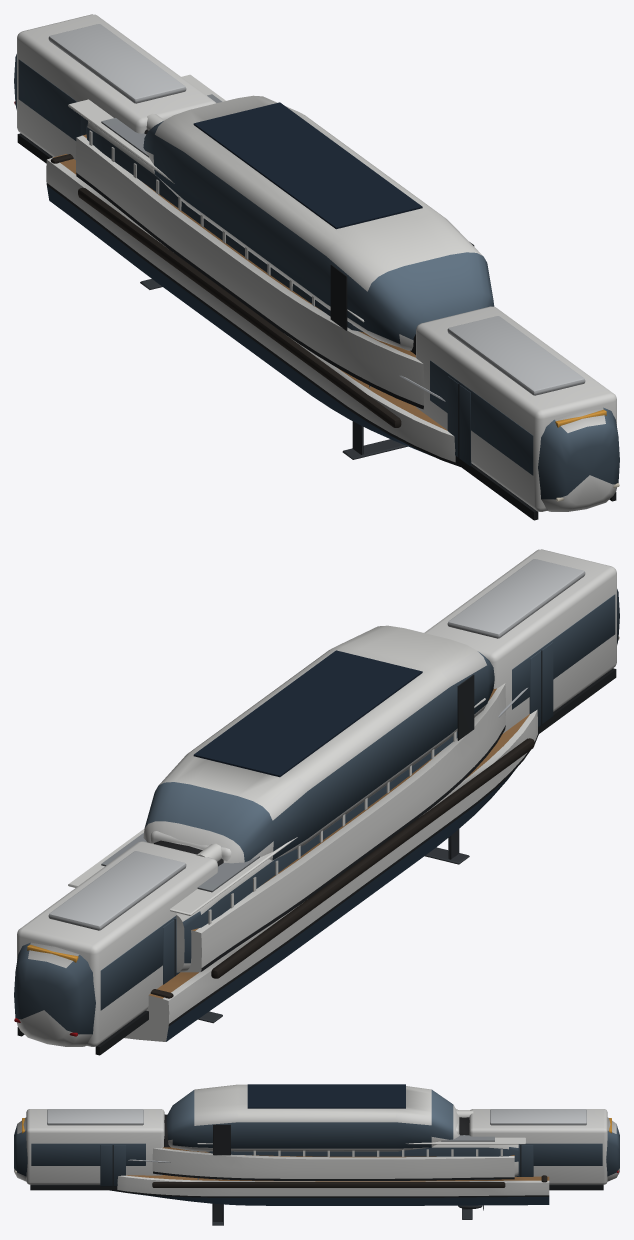
Rendered from vehicles.glb.
3 views of the same model, one above another, from view 1: azimuth 30°, elevation 25°; view 2: azimuth 150°, elevation 25°; view 3: azimuth 270°, elevation 25° (orthographic). The views are drawn at different scales.
Parts seen in each view (by area): view 1: hydrofoil, tram, vaporetto; view 2: hydrofoil, tram, vaporetto; view 3: hydrofoil, tram, vaporetto.
Part boxes in pixels (bbox=[...]): hydrofoil: bbox=[75, 95, 494, 459]; tram: bbox=[14, 14, 619, 520]; vaporetto: bbox=[46, 74, 460, 466]; hydrofoil: bbox=[143, 625, 505, 1023]; tram: bbox=[14, 549, 619, 1055]; vaporetto: bbox=[68, 688, 538, 1041]; hydrofoil: bbox=[152, 1084, 514, 1225]; tram: bbox=[14, 1109, 619, 1190]; vaporetto: bbox=[110, 1110, 549, 1205].
Bounding box in the file's own units: 4.58 × 6.44 × 30.64.
